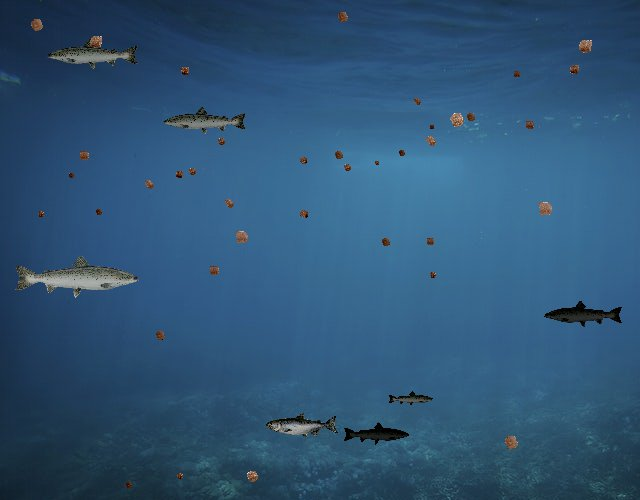Fish: (12, 253, 141, 299), (46, 38, 140, 72), (162, 105, 248, 136), (543, 299, 624, 329), (267, 412, 340, 439), (342, 421, 410, 446), (387, 391, 434, 408)
Pellet: (571, 32, 599, 60), (240, 464, 265, 489), (461, 107, 480, 126), (339, 159, 356, 176), (172, 469, 187, 484), (122, 478, 136, 492), (426, 268, 440, 282), (34, 207, 48, 221)
